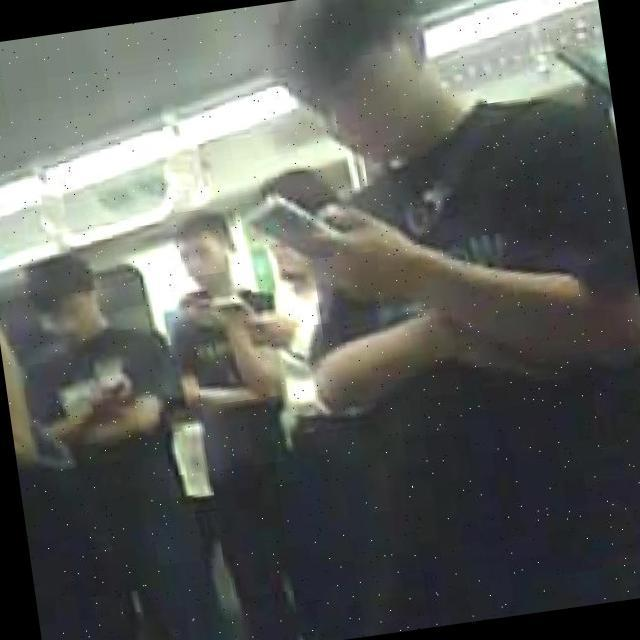person: (216, 0, 640, 640), (13, 239, 233, 640), (152, 207, 326, 640)
